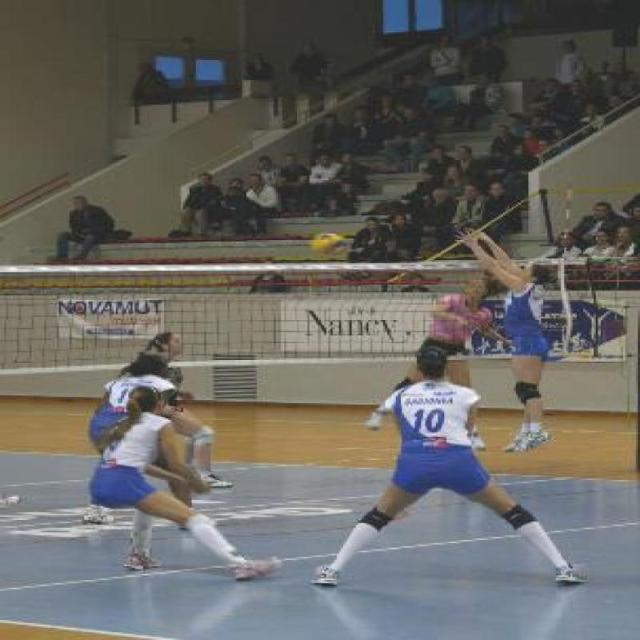volleyball: (312, 229, 352, 257)
